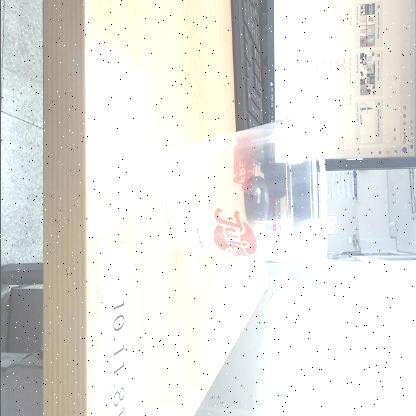Others: (166, 94, 328, 284)
